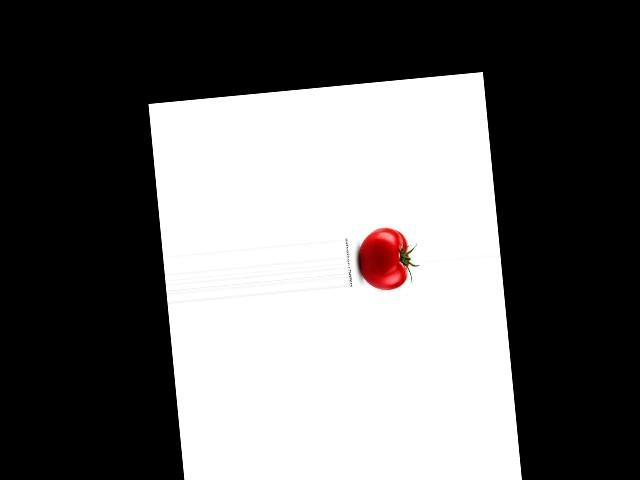tomato: (356, 226, 410, 292)
